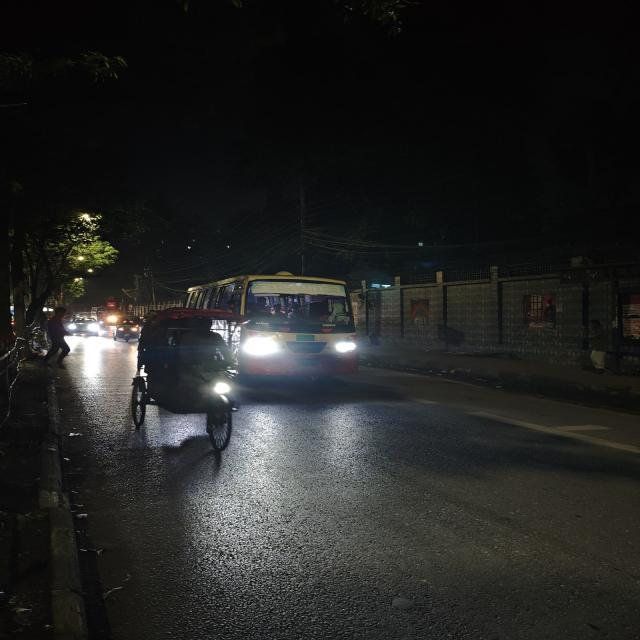bus: (232, 274, 364, 394), (90, 306, 116, 324)
car: (70, 318, 98, 338)
cng: (112, 316, 141, 344)
pedestrian: (43, 308, 72, 364)
rickshaw: (133, 308, 248, 456)
